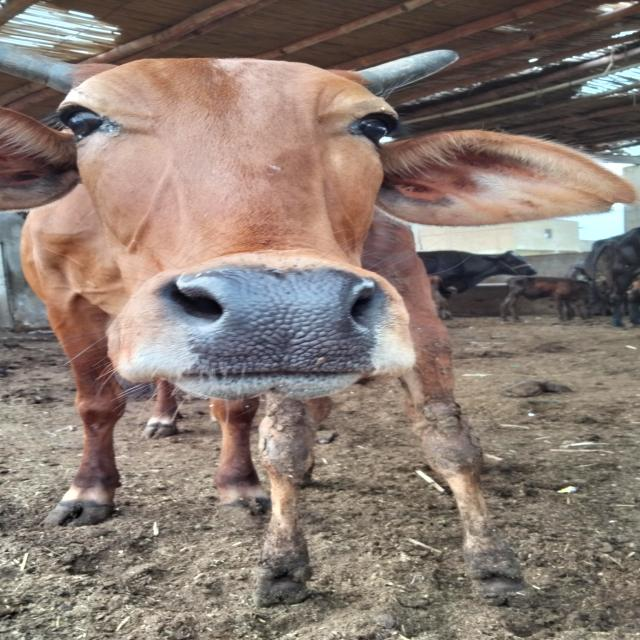muzzles: (148, 258, 398, 382)
